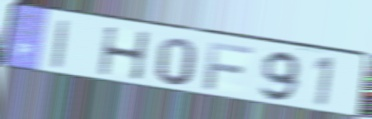0: (152, 35, 200, 88)
1: (312, 56, 335, 110)
9: (260, 50, 303, 103)
F: (202, 40, 257, 92)
H: (97, 25, 153, 82)
I: (49, 17, 72, 72)
